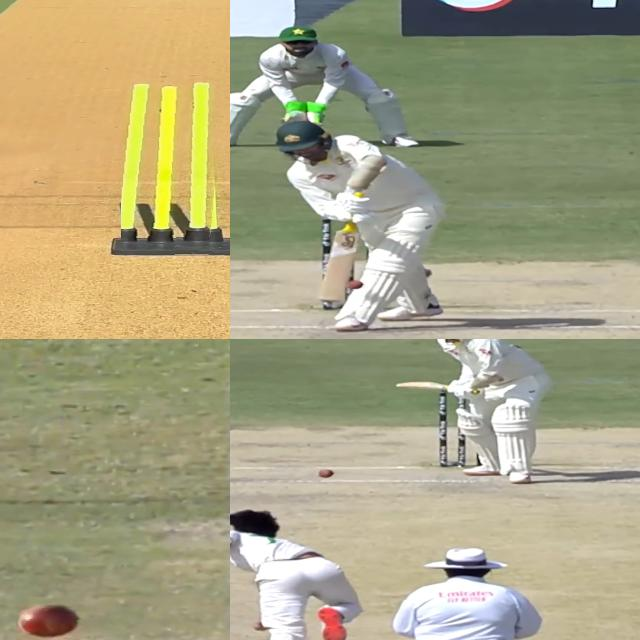Cricket ball: (16, 602, 84, 639), (345, 279, 365, 290), (316, 468, 336, 479)
Stumps: (121, 82, 223, 256)
